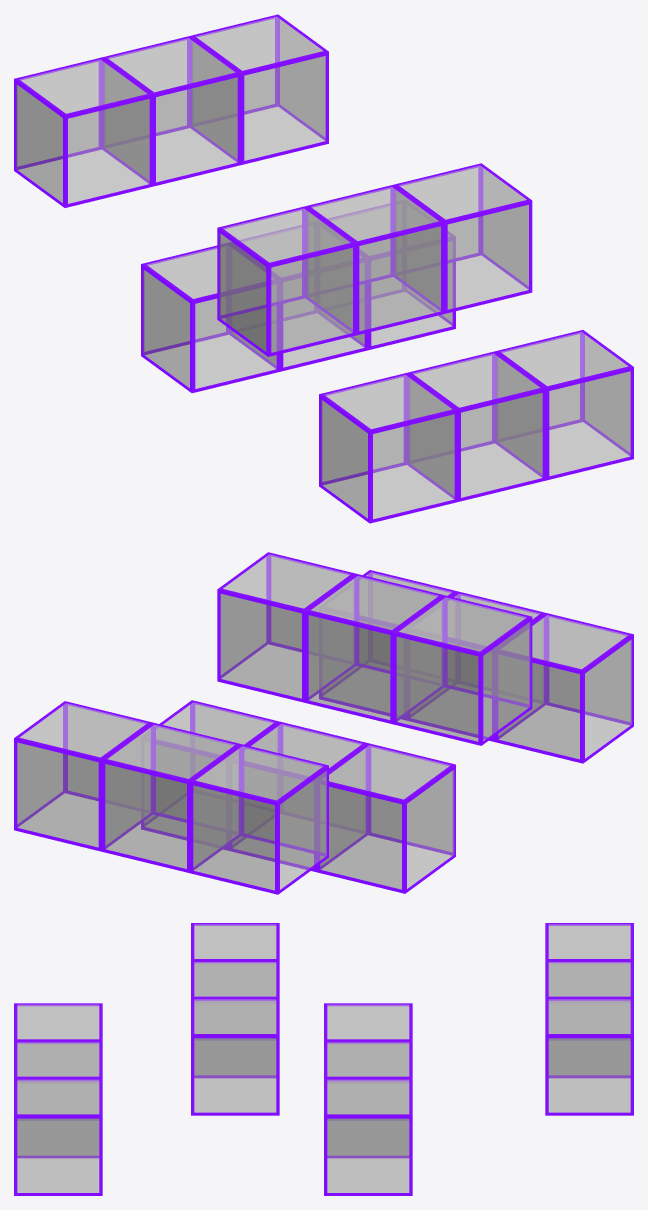
The model's file is (3)H Wall.fbx.
3 views of the same model, one above another, from view 1: azimuth 30°, elevation 25°; view 2: azimuth 150°, elevation 25°; view 3: azimuth 270°, elevation 25° (orthographic). The views are drawn at different scales.
Visible parts, largest first — view 1: Wall.006, Wall.012, Wall.002, Wall.013, Wall.007, Wall.008, Wall.004, Wall.014, Wall.005, Wall.009, Wall.010, Wall.011; view 2: Wall.006, Wall.012, Wall.009, Wall.002, Wall.007, Wall.008, Wall.013, Wall.014, Wall.010, Wall.004, Wall.011, Wall.005; view 3: Wall.005, Wall.008, Wall.011, Wall.014, Wall.013, Wall.007, Wall.004, Wall.010, Wall.006, Wall.012, Wall.002, Wall.009.
Part boxes in pixels (x1,y1,x2,y2): Wall.006: (217,206,356,356); Wall.012: (14,57,152,207); Wall.002: (319,373,457,523); Wall.013: (102,36,240,186); Wall.007: (305,184,444,335); Wall.008: (394,163,532,313); Wall.004: (407,351,545,501); Wall.014: (190,14,328,164); Wall.005: (495,330,633,480); Wall.009: (141,243,279,393); Wall.010: (229,225,367,371); Wall.011: (328,204,455,350); Wall.006: (393,595,532,745); Wall.012: (190,744,328,894); Wall.009: (317,743,455,893); Wall.002: (495,613,633,763); Wall.007: (305,573,444,724); Wall.008: (217,552,356,702); Wall.013: (102,722,240,873); Wall.014: (14,701,152,851); Wall.010: (229,721,367,872); Wall.004: (407,591,545,741); Wall.011: (141,700,279,850); Wall.005: (319,570,457,720); Wall.005: (14,1078,102,1195); Wall.008: (191,998,279,1115); Wall.011: (324,1078,412,1195); Wall.014: (545,998,633,1115); Wall.013: (545,960,633,1078); Wall.007: (191,960,279,1078); Wall.004: (14,1040,102,1146); Wall.010: (324,1040,412,1147); Wall.006: (191,923,279,996); Wall.012: (545,923,633,996); Wall.002: (14,1003,102,1076); Wall.009: (324,1003,412,1076).
Size of the model in its own units: 600 by 400 by 1400.
